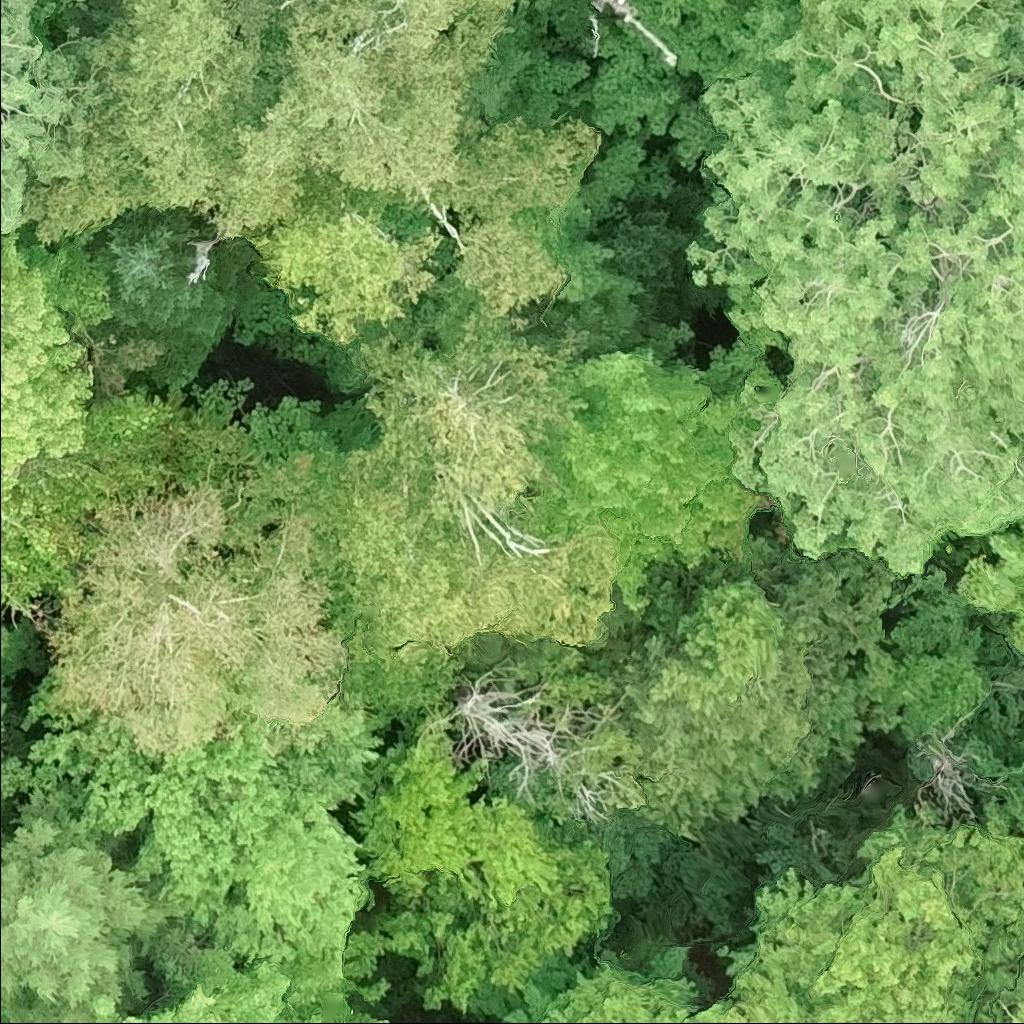crown: (663, 0, 1023, 577), (21, 697, 390, 971), (25, 481, 349, 760), (337, 713, 615, 1017), (207, 0, 527, 248), (666, 803, 1023, 1023), (0, 397, 338, 622), (537, 337, 783, 610), (25, 0, 282, 245), (611, 550, 813, 835), (344, 310, 601, 527), (315, 442, 481, 723), (0, 782, 186, 1023), (244, 181, 447, 351), (88, 208, 257, 385), (0, 0, 117, 254), (0, 230, 115, 483), (588, 0, 756, 145), (406, 206, 575, 349), (427, 527, 621, 649), (93, 946, 346, 1023), (432, 114, 599, 222), (491, 940, 699, 1023), (953, 524, 1023, 653), (0, 602, 34, 804), (337, 1010, 398, 1023)
